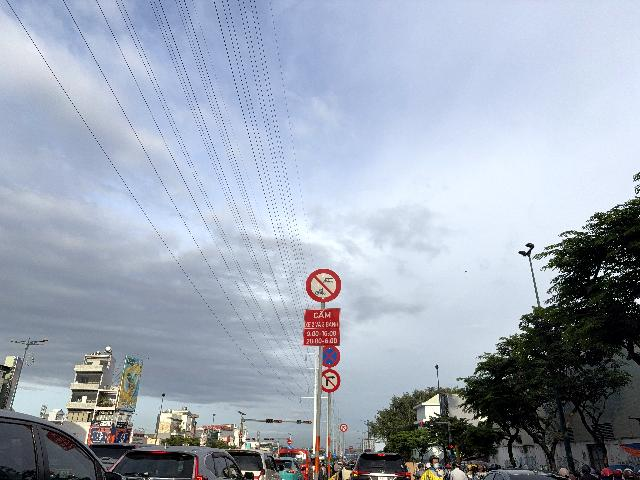cam-dung-va-do-xe: (322, 345, 340, 367)
cam-re-phai: (321, 369, 340, 393)
cam-xe-2-banh-3-banh: (306, 268, 342, 302)
